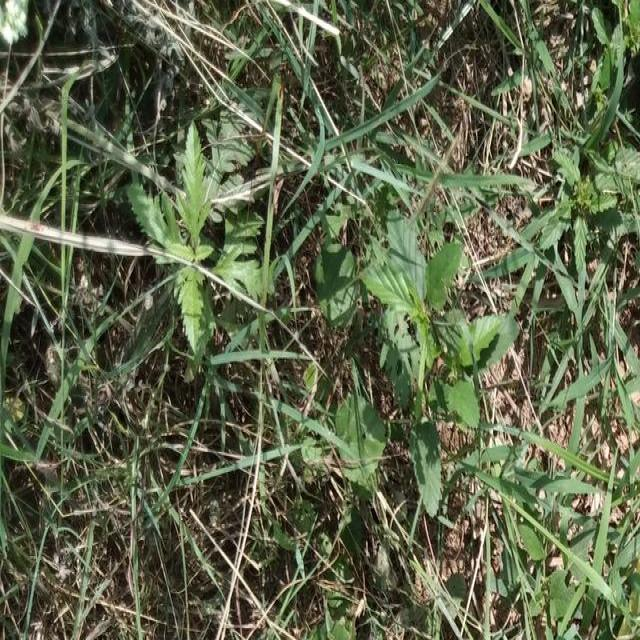weed: (326, 251, 518, 489), (517, 8, 640, 338), (150, 123, 267, 364)
